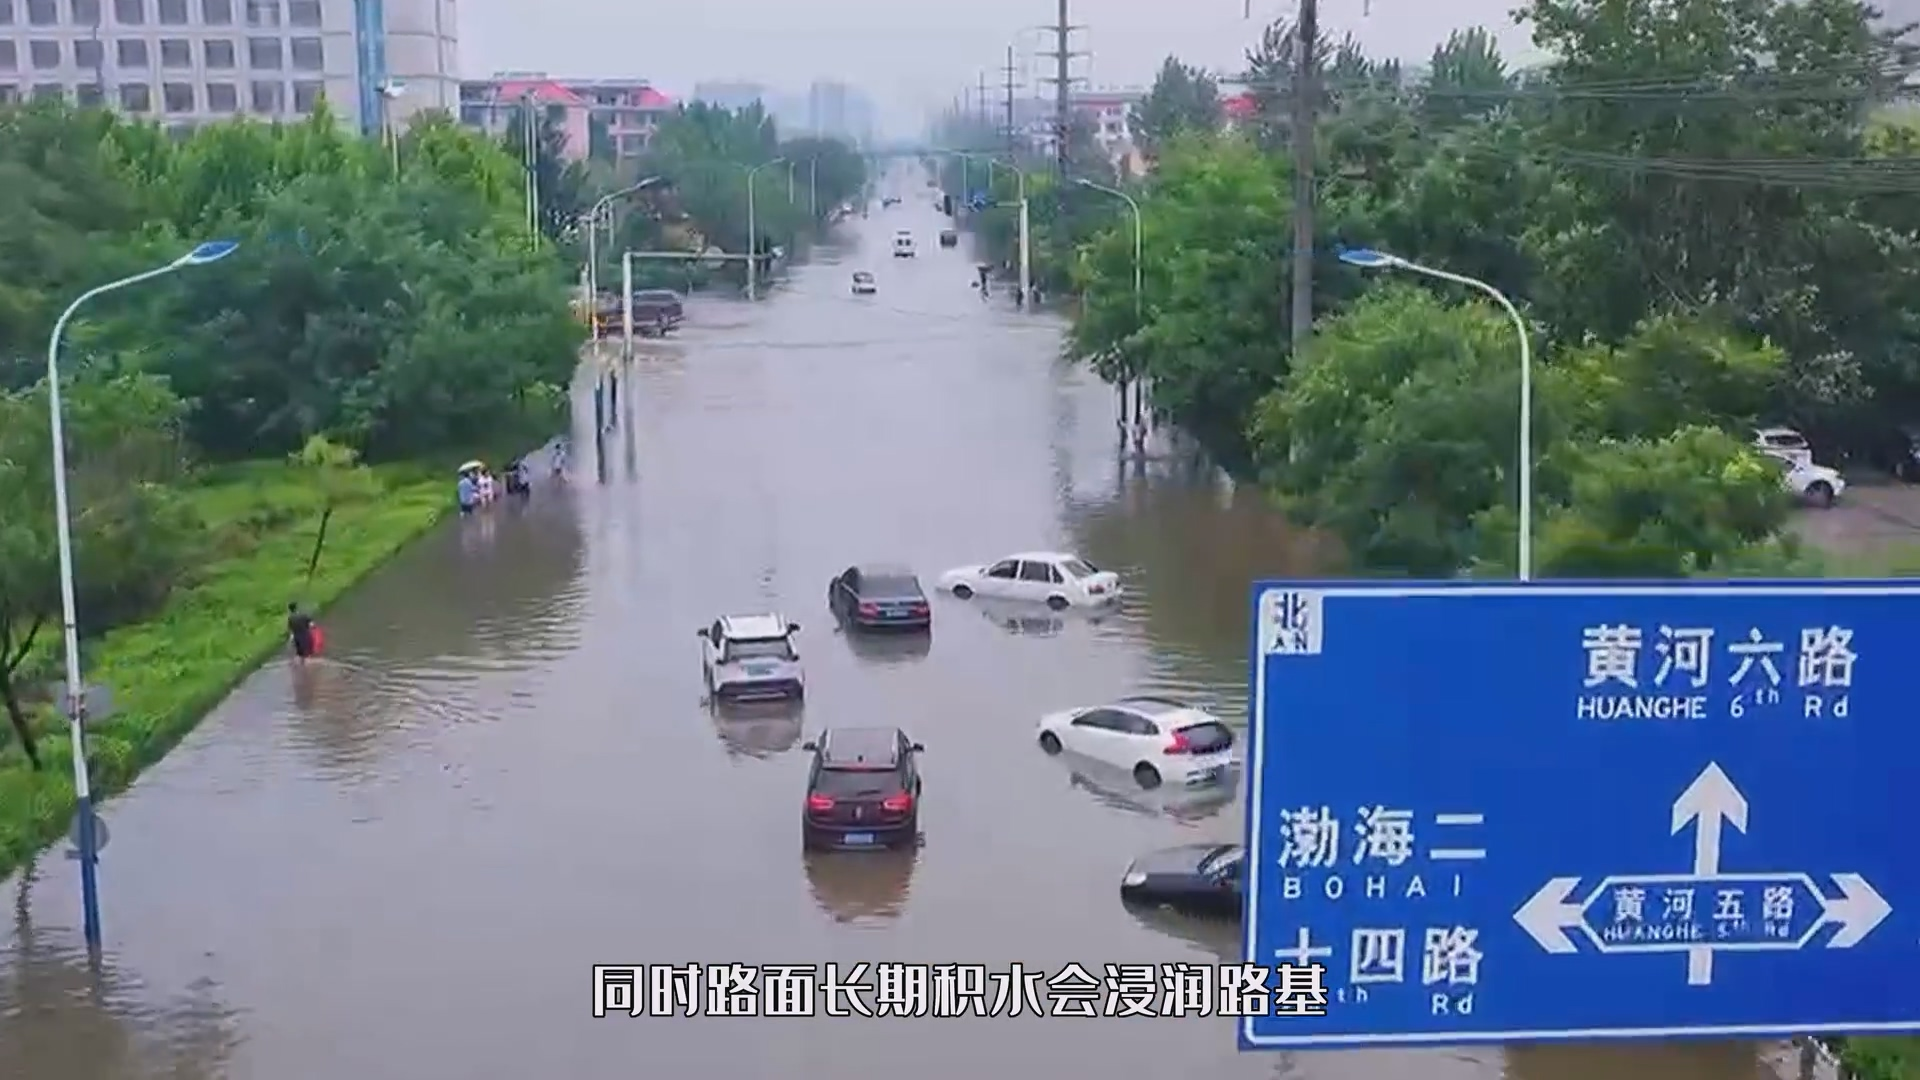puddle: (138, 434, 1258, 1080)
